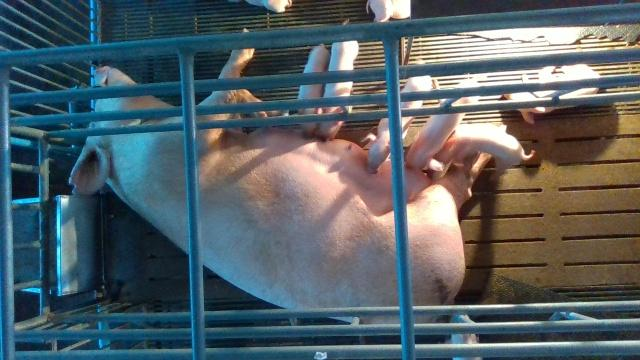piglet: (361, 74, 433, 173), (405, 79, 479, 171), (427, 123, 535, 180), (502, 64, 599, 123), (314, 41, 359, 141), (297, 43, 331, 135), (446, 314, 483, 360), (366, 0, 412, 25)
sow-sleep-lactate: (69, 29, 499, 325)
